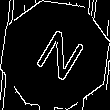N_SW: (25, 23, 85, 87)
